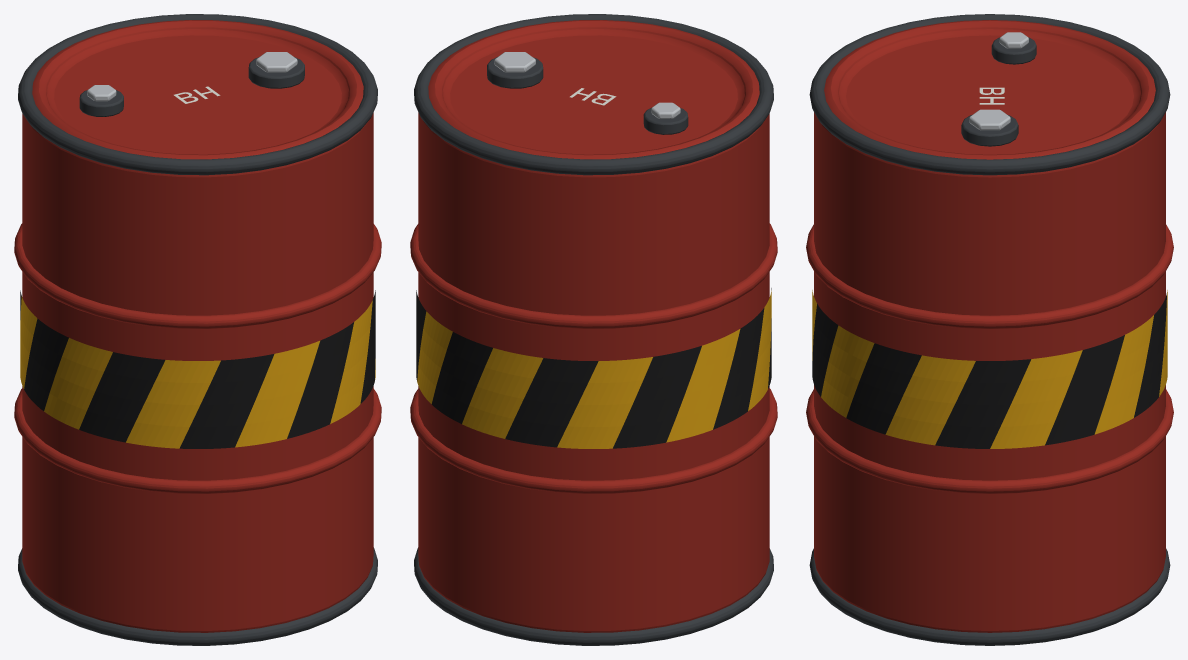
Rendered from barrel_red.glb.
3 views of the same model, side by side, from view 1: azimuth 30°, elevation 25°; view 2: azimuth 150°, elevation 25°; view 3: azimuth 270°, elevation 25° (orthographic).
Visible parts, largest first — view 1: barrel_red_body, barrel_red_decal, barrel_red_detail; view 2: barrel_red_body, barrel_red_decal, barrel_red_detail; view 3: barrel_red_body, barrel_red_decal, barrel_red_detail.
Part boxes in pixels (box(x1,y1,x2,y2)): barrel_red_body: box(22, 20, 373, 632); barrel_red_decal: box(20, 86, 375, 448); barrel_red_detail: box(14, 14, 381, 645); barrel_red_body: box(418, 20, 769, 632); barrel_red_decal: box(416, 88, 771, 448); barrel_red_detail: box(410, 14, 777, 645); barrel_red_body: box(814, 20, 1165, 632); barrel_red_decal: box(812, 87, 1167, 448); barrel_red_detail: box(806, 14, 1173, 645).
Bounding box in the file's own units: 0.6067 × 0.8993 × 0.6067.
